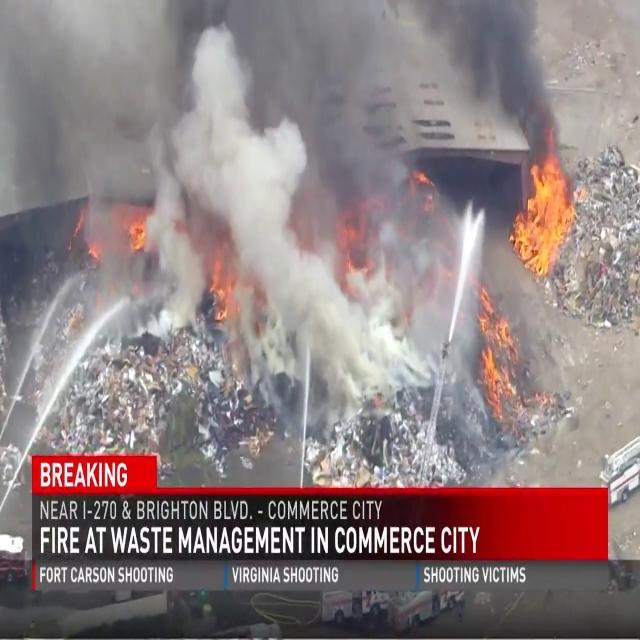Fire: (508, 148, 580, 277), (471, 280, 527, 414), (204, 246, 230, 326), (123, 207, 158, 253)
Smoke: (1, 0, 556, 349)
